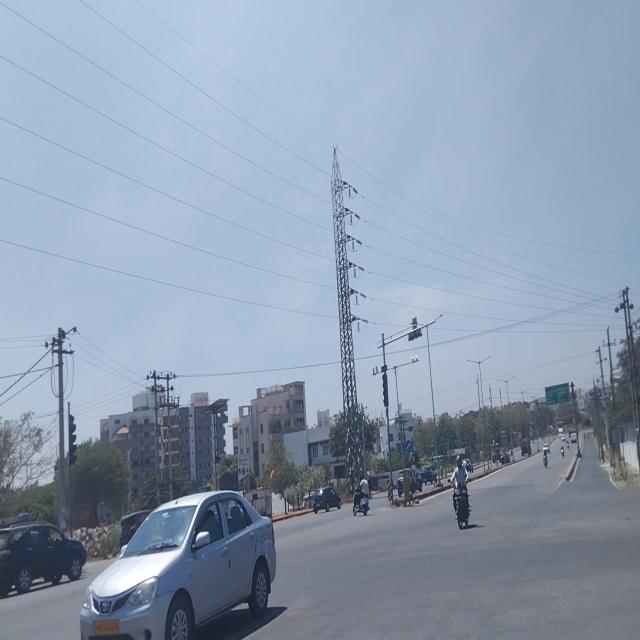bien_cam: (405, 440, 412, 452)
